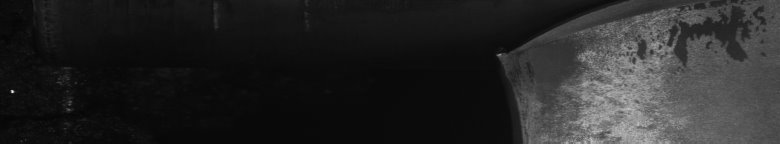kb: (491, 0, 765, 144)
